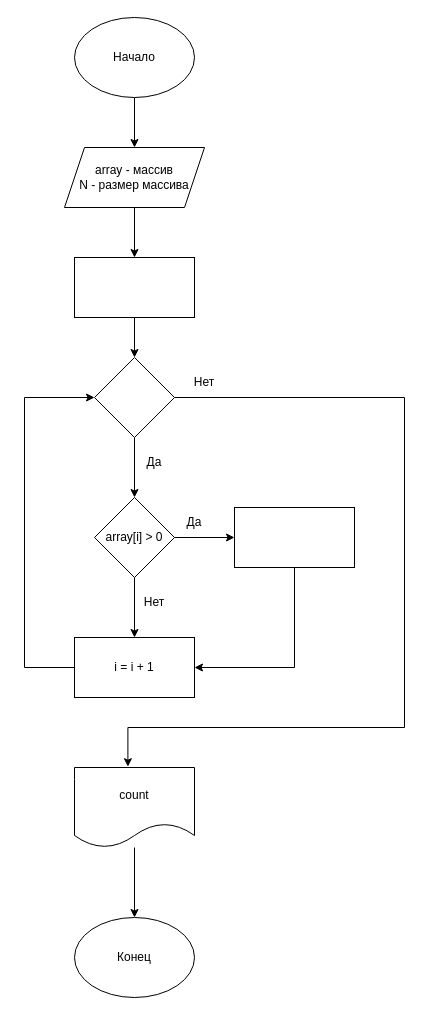
The diagram is 430 pixels wide and 1015 high, and some of its shapes have lost their labels. The shapes that lost their labels are listed below. From the top down, each one's box as (x1, y1, x2, y2) in pixels, then its label:
(74, 256, 194, 318): count = 0 i = 0
(94, 356, 174, 438): i <= N - 1
(234, 506, 354, 568): count = count + 1
